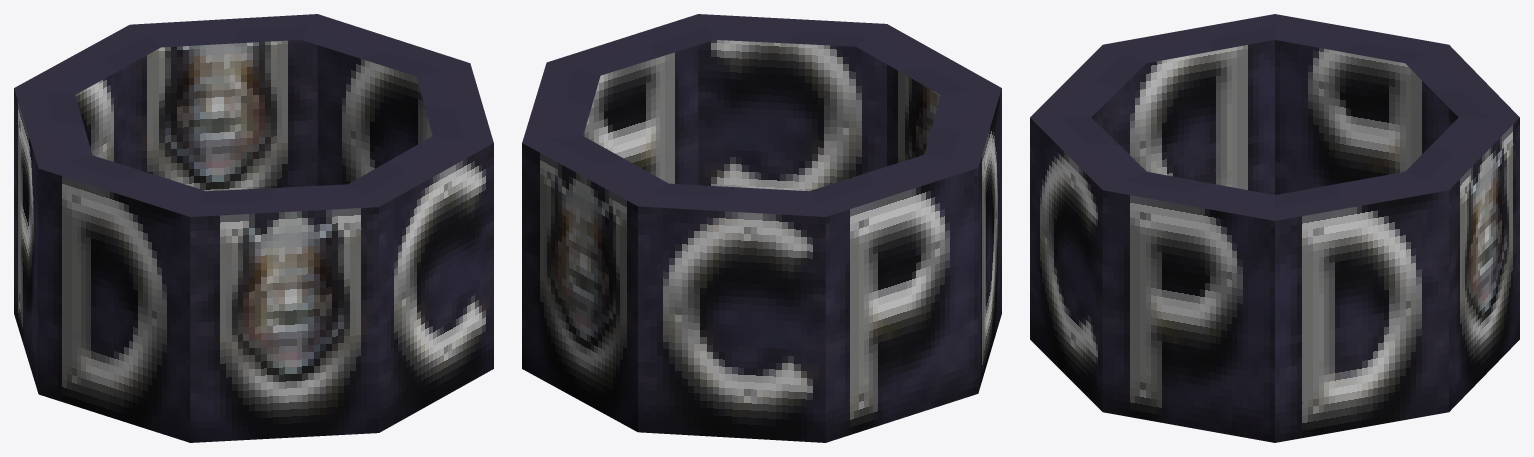
The picture shows the model from 3 angles, left to right: view 1: azimuth 30°, elevation 25°; view 2: azimuth 150°, elevation 25°; view 3: azimuth 270°, elevation 25°; orthographic projection.
Visible parts, largest first — view 1: prim133-Cylinder01; view 2: prim133-Cylinder01; view 3: prim133-Cylinder01.
Boxes of the visible parts, box(x1,y1,x2,y2) form: prim133-Cylinder01: box(14, 14, 493, 442); prim133-Cylinder01: box(522, 14, 1001, 442); prim133-Cylinder01: box(1030, 14, 1519, 442).
Size of the model in its own units: 256 by 128 by 256.
Materials: 1 (1 with a texture image).
